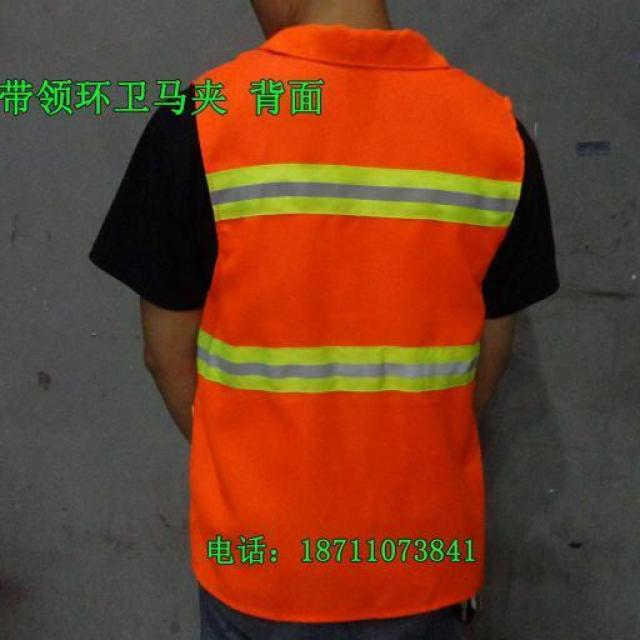vest: (203, 41, 483, 521)
